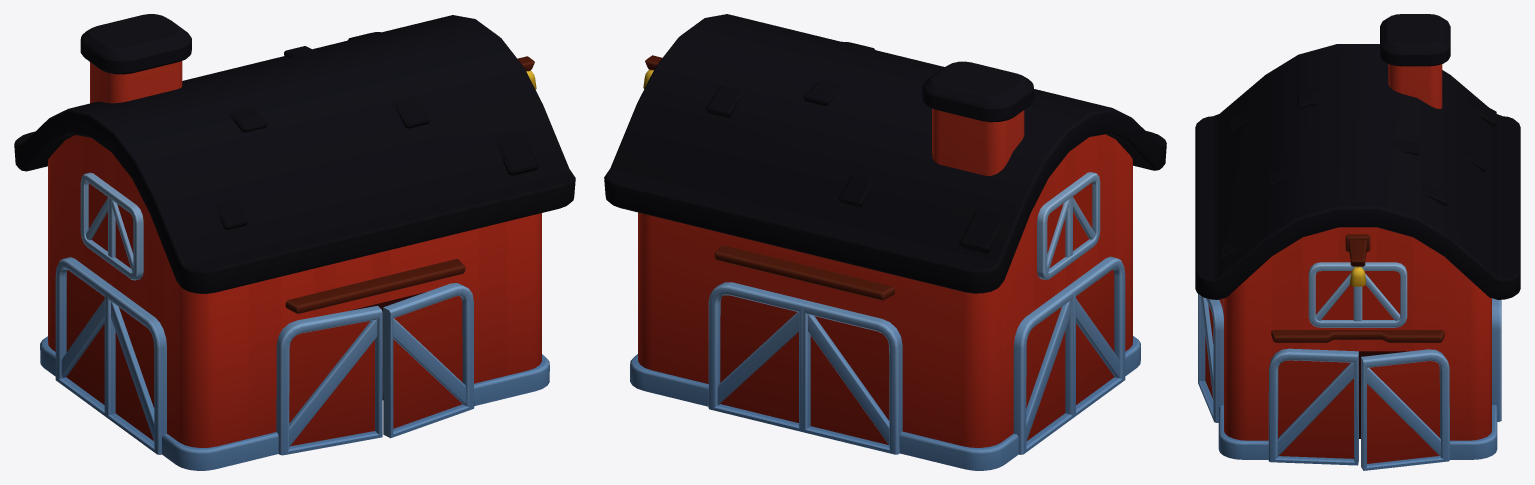
File: Obstacle_House_01.fbx
3 views of the same model, side by side, from view 1: azimuth 30°, elevation 25°; view 2: azimuth 150°, elevation 25°; view 3: azimuth 270°, elevation 25° (orthographic). The views are drawn at different scales.
Visible parts, largest first — view 1: Obstacle_House_01; view 2: Obstacle_House_01; view 3: Obstacle_House_01.
Boxes of the visible parts, x1=… form: Obstacle_House_01: x1=14, y1=14, x2=575, y2=470; Obstacle_House_01: x1=604, y1=14, x2=1166, y2=470; Obstacle_House_01: x1=1195, y1=14, x2=1520, y2=470.
Bounding box in the file's own units: 4.85 × 3.7 × 3.63.
